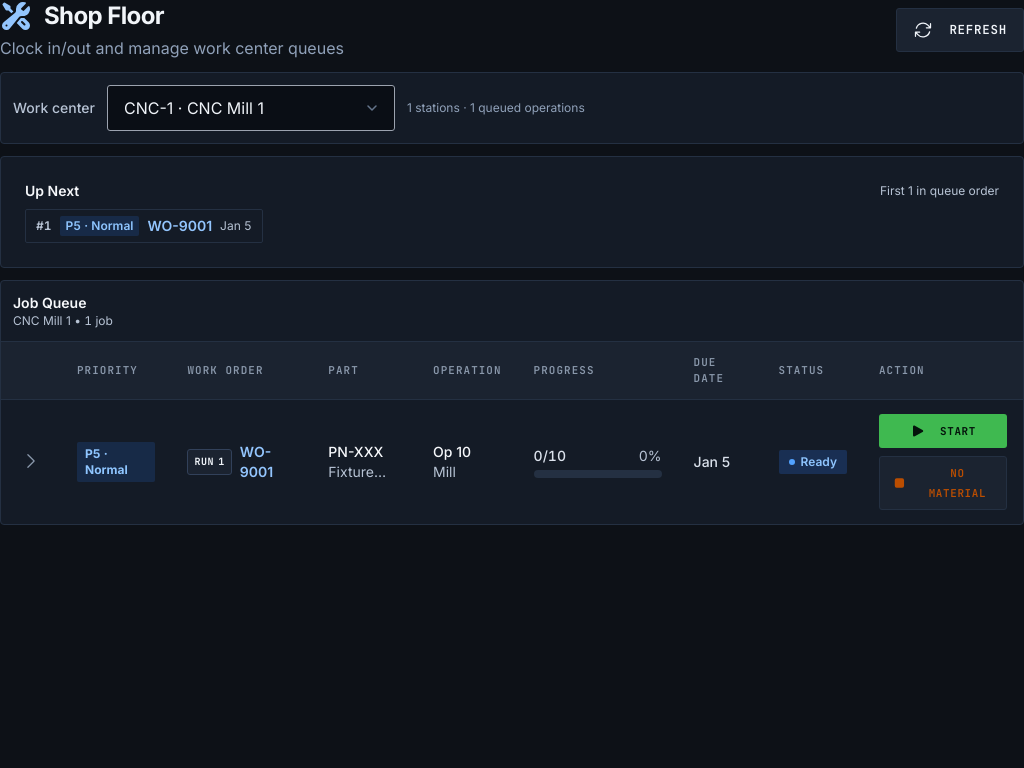
it: ShopFloor material-blocker InputDialog › opens the dialog pre-filled with the standard note and names the work order
Click the button "No Material" at (943, 483), box [879,456,1007,510]
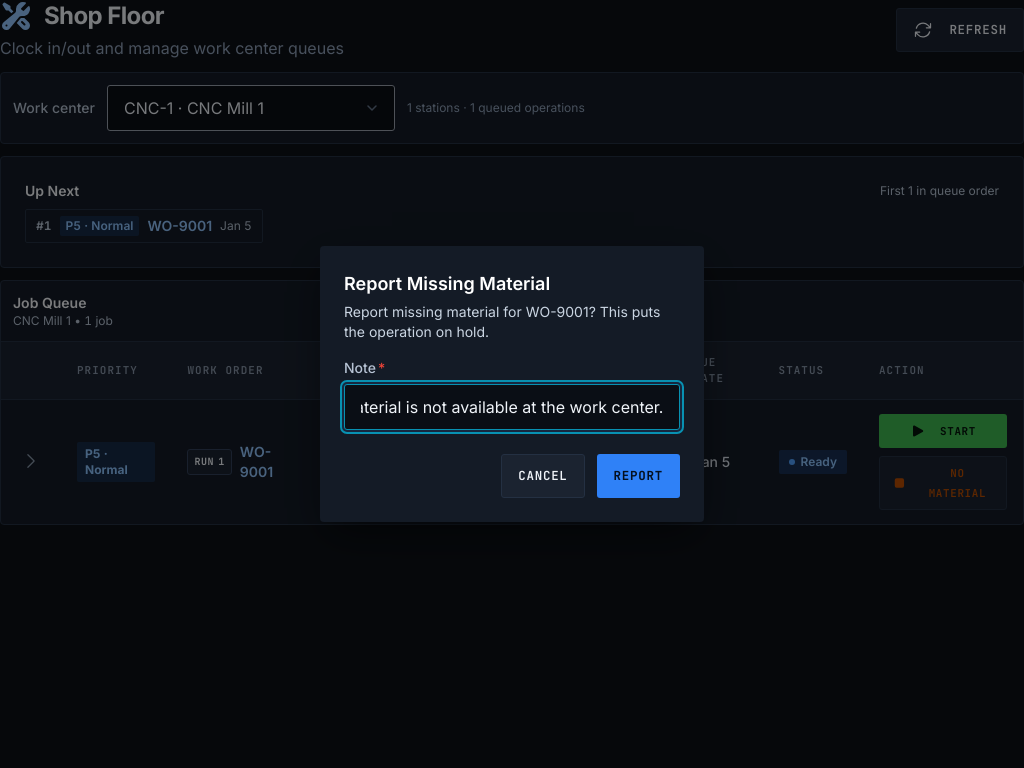
Expected: the heading "Report Missing Material" is shown, [344,273,550,294]
Expected: the text "Report missing material for WO-9001?" is shown, [344,303,660,340]
Expected: the field labelled "Note*" holds "Operator reported material is not available at the work center.", [344,384,680,430]
